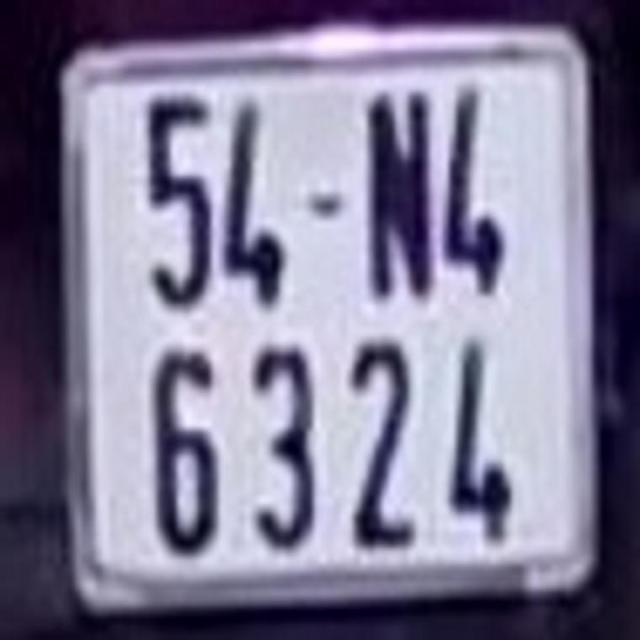2: (340, 340, 422, 542)
3: (242, 340, 321, 556)
4: (441, 348, 522, 554), (448, 88, 514, 303), (224, 106, 292, 309)
5: (142, 102, 216, 308)
6: (144, 340, 229, 548)
N: (359, 94, 443, 300)
